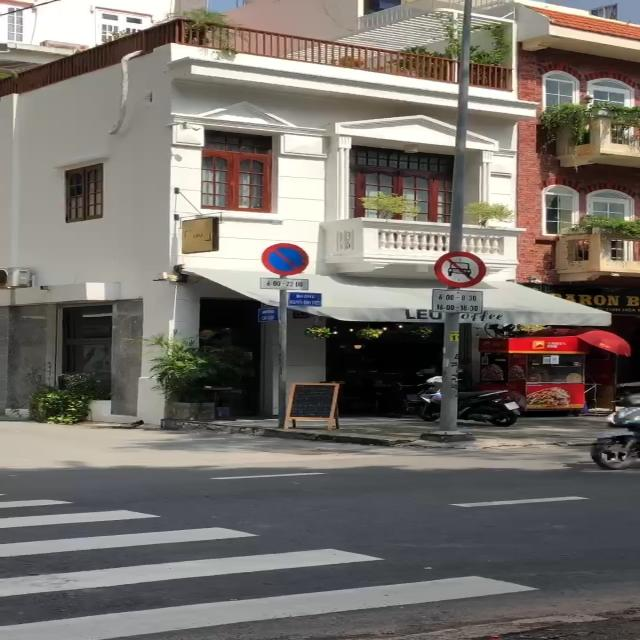Bien bao cam do xe: (262, 242, 313, 278)
Bien bao cam xe oto: (431, 250, 489, 288)
